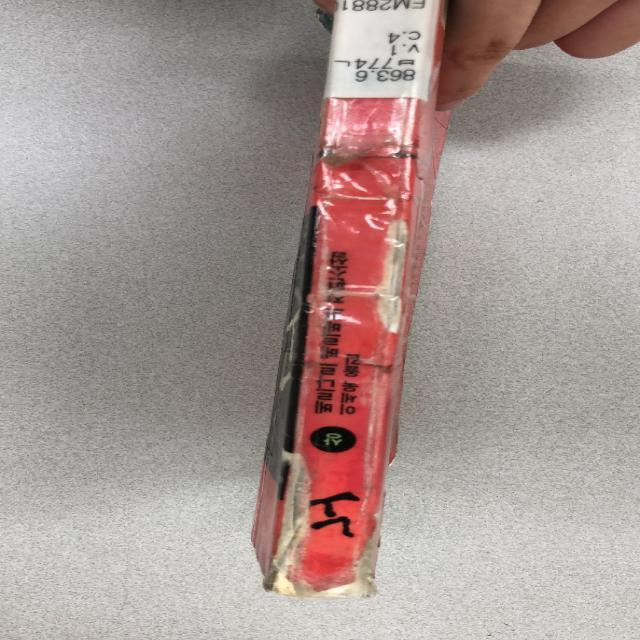Ripped: (259, 448, 320, 604), (350, 493, 386, 601)
Wornout: (374, 219, 411, 337), (298, 579, 355, 606)
